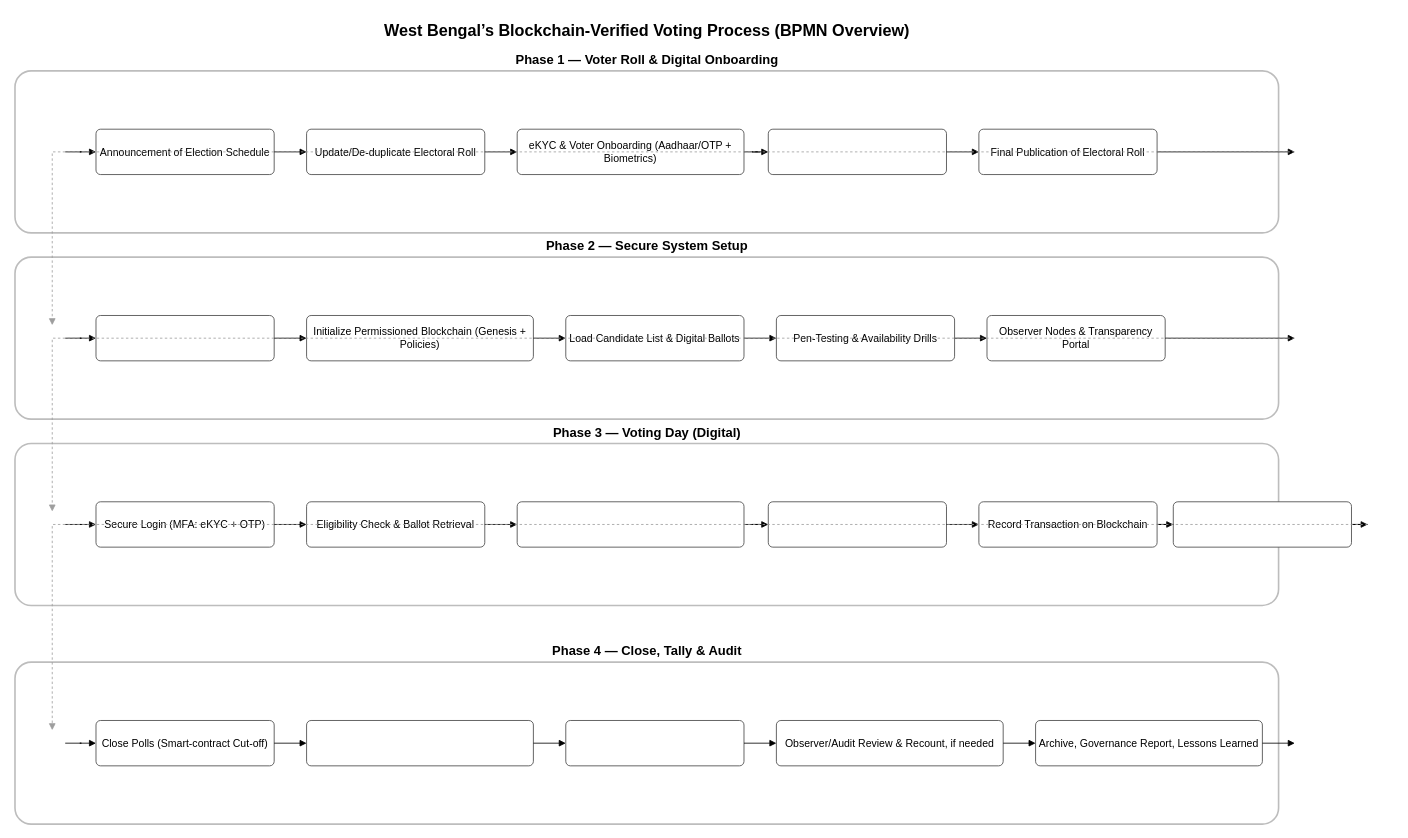
Image size: 1408x838. Some labels were removed from this diagram. Here are the shapes that lost their labels. From the top down, the centre of each, then its label:
point (856, 151): Issue Digital Voter ID & Wallet
point (184, 338): Provision Validators (WBSEC‑approved)
point (630, 524): Blind Signature / Mix‑Net (Anonymize Link to Voter)
point (856, 524): Cast Vote → Encrypt → Sign
point (1261, 524): Return Receipt Hash to Voter
point (419, 743): Zero‑Knowledge Tally / Homomorphic Count
point (654, 743): Publish Results + Merkle Proofs
